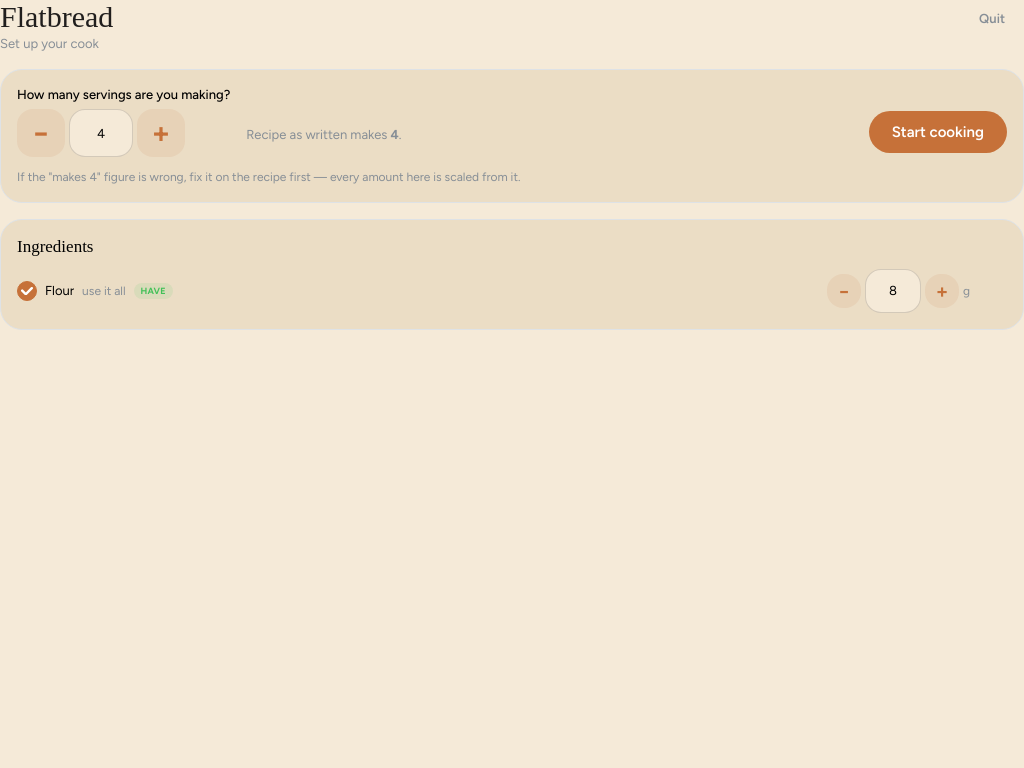
Test case: CookAlongPage › opens substitution review only for an explicitly started cook and never starts or finishes from that action
The image size is (1024, 768).
Expected: the heading "Flatbread" is shown, [0,0,113,34]
Expected: the button "Review a substitution" is not shown
Click the button "Start cooking" at coordinates (938, 132), box [869,111,1007,153]
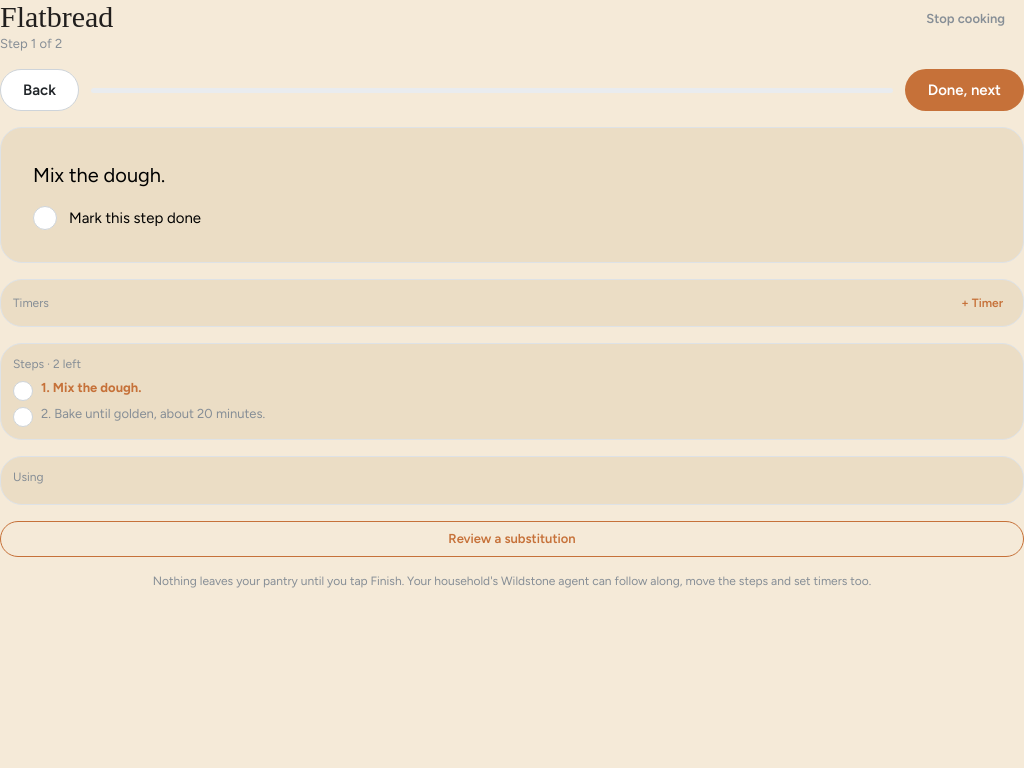
Click the button "Review a substitution" at coordinates (512, 539), box [0,521,1023,557]
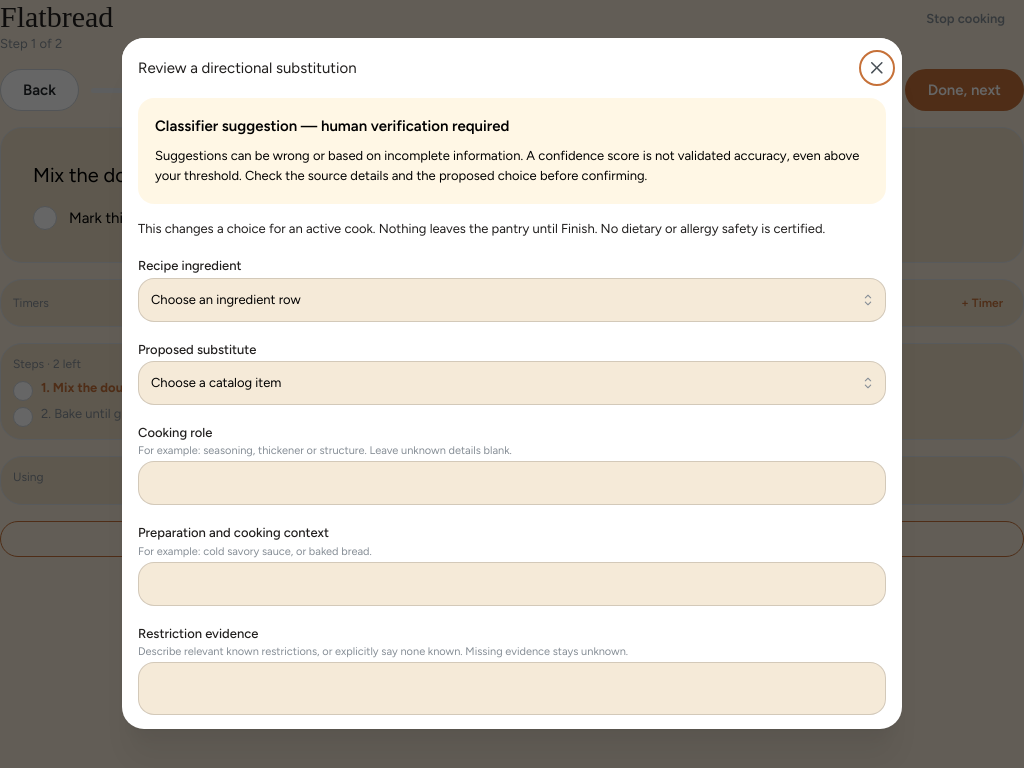
Result: the heading "Review a directional substitution" is shown at [138,61,357,76]
